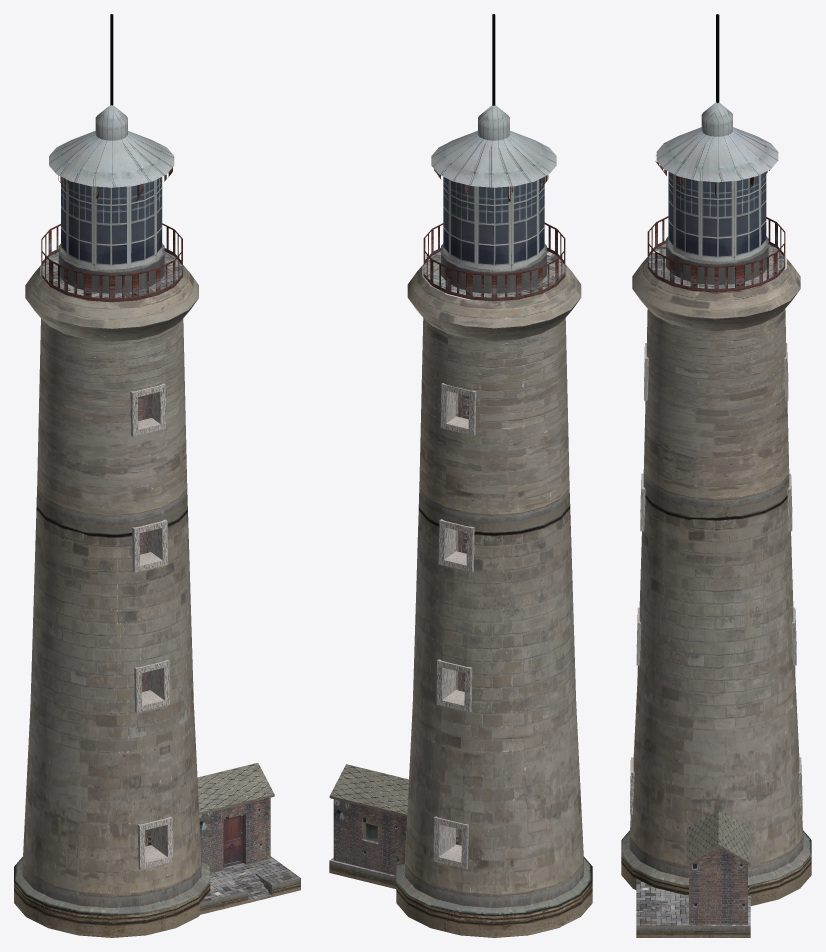
The model's file is LightHouse.DAE.
3 renders of one model, left to right at view 1: azimuth 30°, elevation 25°; view 2: azimuth 150°, elevation 25°; view 3: azimuth 270°, elevation 25°, orthographic. The views are drawn at different scales.
Visible parts, largest first — view 1: LightHouse; view 2: LightHouse; view 3: LightHouse.
Part boxes in pixels (x1,y1,x2,y2): LightHouse: (14,14,300,937); LightHouse: (329,14,592,937); LightHouse: (621,14,811,937).
Size of the model in its own units: 385 by 280 by 1387.
